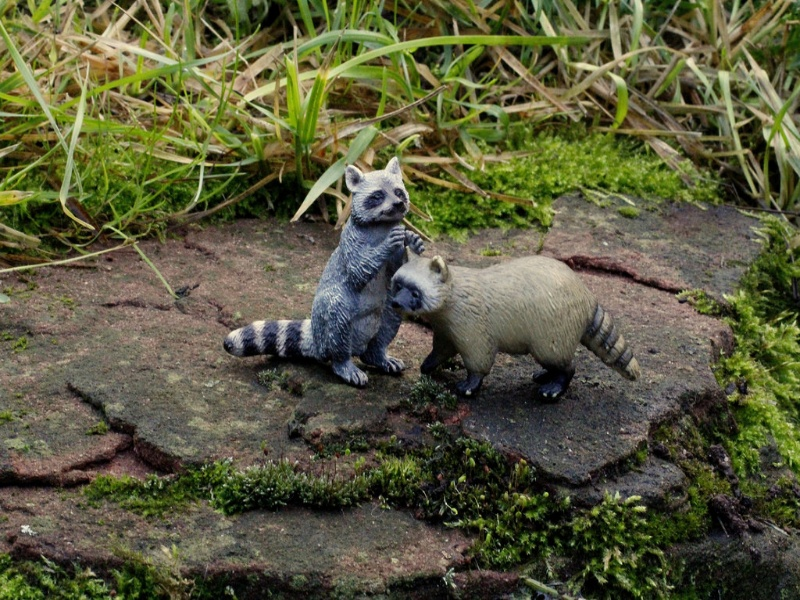raccoon: (222, 155, 417, 387), (393, 247, 647, 411)
